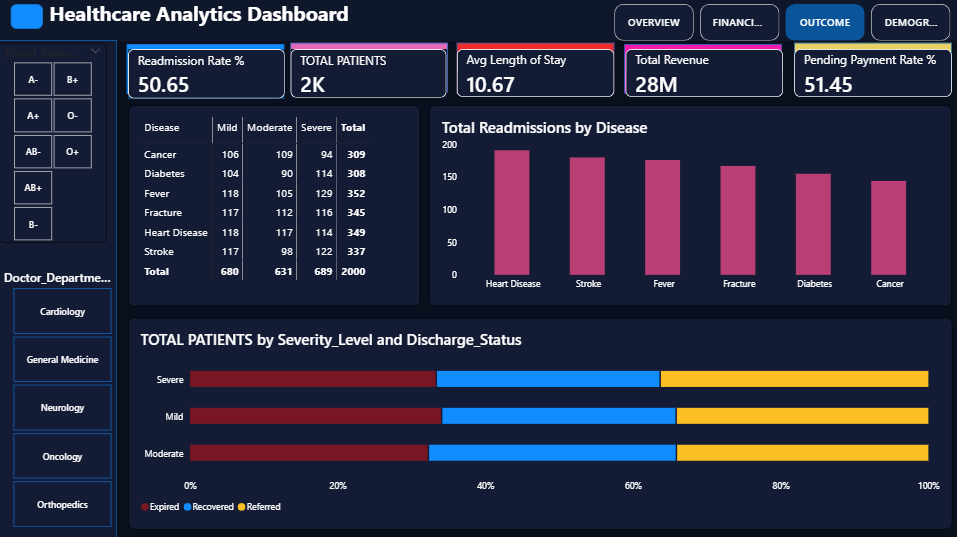

This screenshot's page, from the dashboard's own definition file:
{"tool":"powerbi","page":{"name":"OUTCOME","canvas":[1280,720],"ordinal":2},"visuals":[{"type":"shape","box":[0,0,1280,56],"z":0},{"type":"textbox","box":[16,0,1248,56],"z":1000},{"type":"shape","box":[171.1,60,210,66.7],"z":2000},{"type":"cardVisual","fields":{"Data":["HealthcareData.Readmission Rate %"]},"box":[173.1,66.4,209.2,66.4],"z":3000},{"type":"shape","box":[390,58,210,66],"z":4000},{"type":"shape","box":[0,55.7,158.6,664.3],"z":5000},{"type":"slicer","fields":{"Values":["HealthcareData.Blood_Group"]},"box":[0,59.1,144.8,266.6],"z":6000},{"type":"slicer","fields":{"Values":["HealthcareData.Doctor_Department"]},"box":[0,360,170,346],"z":7000},{"type":"shape","box":[612,58,210,68],"z":8000},{"type":"cardVisual","fields":{"Data":["HealthcareData.Avg Length of Stay"]},"box":[612,66,210,64],"z":9000},{"type":"shape","box":[835,60,210,66],"z":10000},{"type":"shape","box":[1061.4,59,210,65.7],"z":11000},{"type":"cardVisual","fields":{"Data":["HealthcareData.Total Revenue"]},"box":[836,66,210,64],"z":12000},{"type":"cardVisual","fields":{"Data":["HealthcareData.Pending Payment Rate %"]},"box":[1062,66,210,64],"z":13000},{"type":"cardVisual","fields":{"Data":["HealthcareData.TOTAL PATIENTS"]},"box":[390,66,208.8,65],"z":14000},{"type":"shape","box":[16.7,6.7,43.3,33.3],"z":15000},{"type":"textbox","box":[685.3,23.1,49.1,31.7],"z":16000},{"type":"pivotTable","fields":{"Columns":["HealthcareData.Severity_Level"],"Rows":["HealthcareData.Disease"],"Values":["HealthcareData.TOTAL PATIENTS"]},"box":[173.1,141.4,389.5,268.4],"z":25000},{"type":"clusteredColumnChart","fields":{"Category":["HealthcareData.Disease"],"Y":["HealthcareData.Total Readmissions"]},"box":[575.7,141.4,696.9,268.4],"z":26000},{"type":"hundredPercentStackedBarChart","fields":{"Category":["HealthcareData.Severity_Level"],"Series":["HealthcareData.Discharge_Status"],"Y":["HealthcareData.TOTAL PATIENTS"]},"box":[173.1,424.2,1099.4,282.8],"z":27000},{"type":"pageNavigator","box":[821.6,6,450,49.5],"z":27001}]}

Visuals, with their boxes in screenshot pixels (x1, y1, x2, y2), scaled from the page's 1280x720 canvas onto the 957x537 screenshot:
shape: [0,0,956,42]
textbox: [12,0,945,42]
shape: [128,45,285,94]
cardVisual - HealthcareData.Readmission Rate %: [129,50,286,99]
shape: [292,43,449,92]
shape: [0,42,119,536]
slicer - HealthcareData.Blood_Group: [0,44,108,243]
slicer - HealthcareData.Doctor_Department: [0,268,127,527]
shape: [458,43,615,94]
cardVisual - HealthcareData.Avg Length of Stay: [458,49,615,97]
shape: [624,45,781,94]
shape: [794,44,951,93]
cardVisual - HealthcareData.Total Revenue: [625,49,782,97]
cardVisual - HealthcareData.Pending Payment Rate %: [794,49,951,97]
cardVisual - HealthcareData.TOTAL PATIENTS: [292,49,448,98]
shape: [12,5,45,30]
textbox: [512,17,549,41]
pivotTable - HealthcareData.Severity_Level x HealthcareData.Disease: [129,105,421,306]
clusteredColumnChart - HealthcareData.Disease x HealthcareData.Total Readmissions: [430,105,951,306]
hundredPercentStackedBarChart - HealthcareData.Severity_Level x HealthcareData.Discharge_Status: [129,316,951,527]
pageNavigator: [614,4,951,41]
